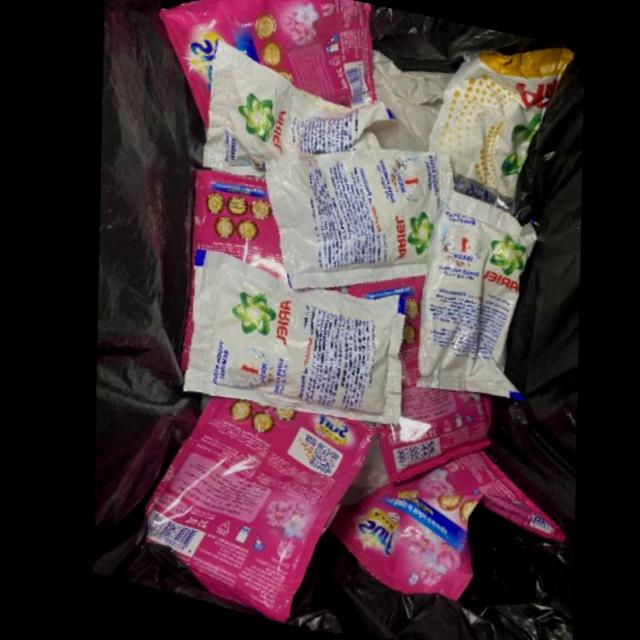goi_nhua_nho: (137, 398, 370, 623), (176, 253, 401, 425), (322, 451, 560, 601), (342, 276, 487, 482), (157, 0, 374, 126), (198, 45, 392, 181), (411, 192, 534, 401), (261, 151, 436, 292), (427, 48, 573, 211), (174, 171, 283, 374)
